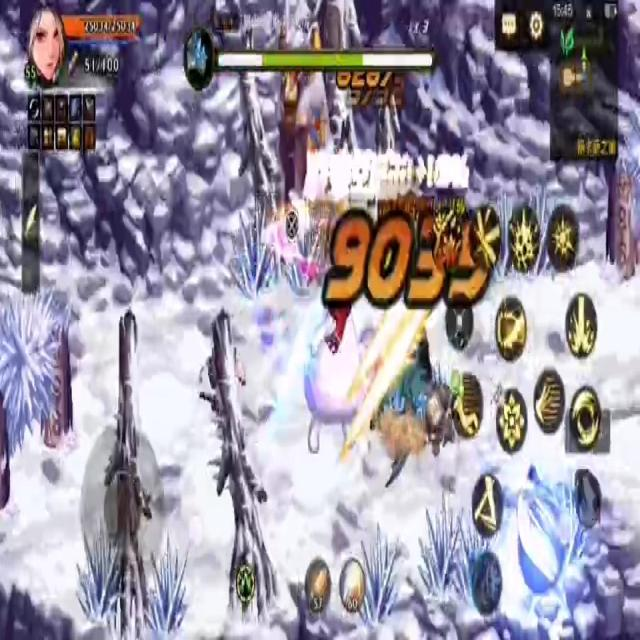player: (306, 274, 362, 462)
